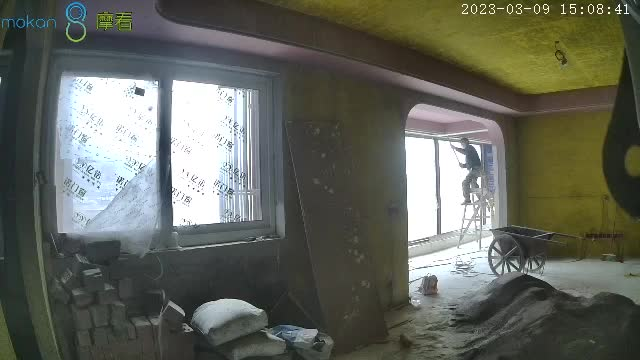people: (452, 137, 482, 203)
window: (54, 68, 267, 230), (403, 129, 492, 246)
